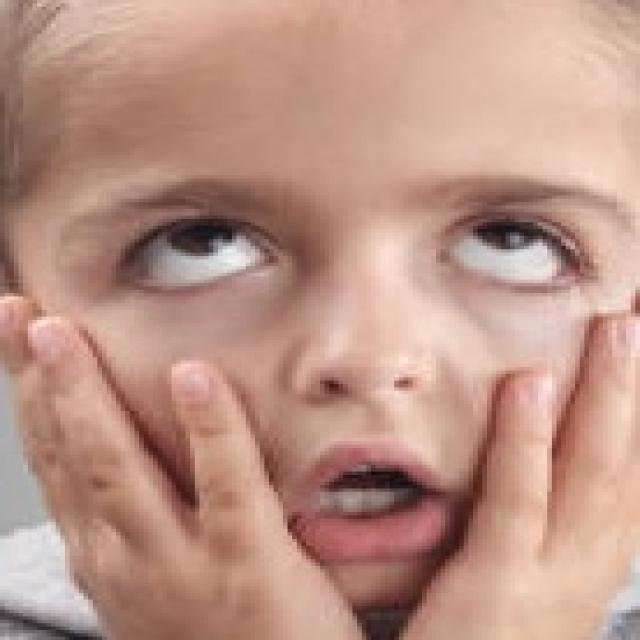Anxiety: (0, 0, 635, 628)
